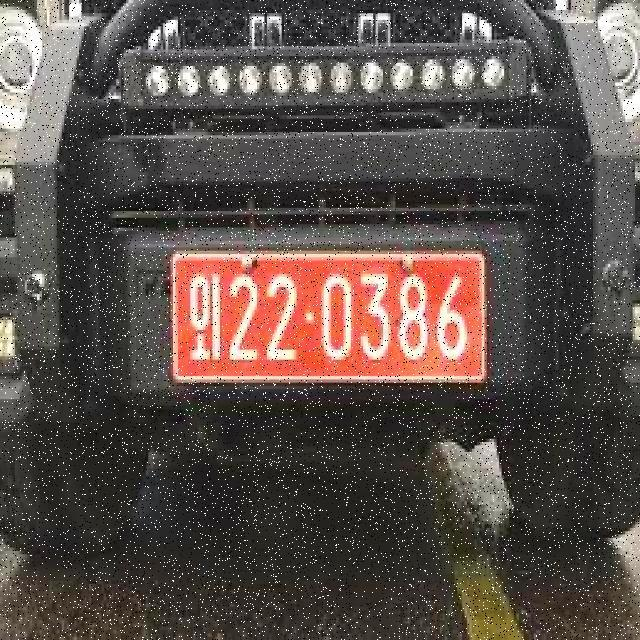LicensePlate: (172, 249, 489, 384)
